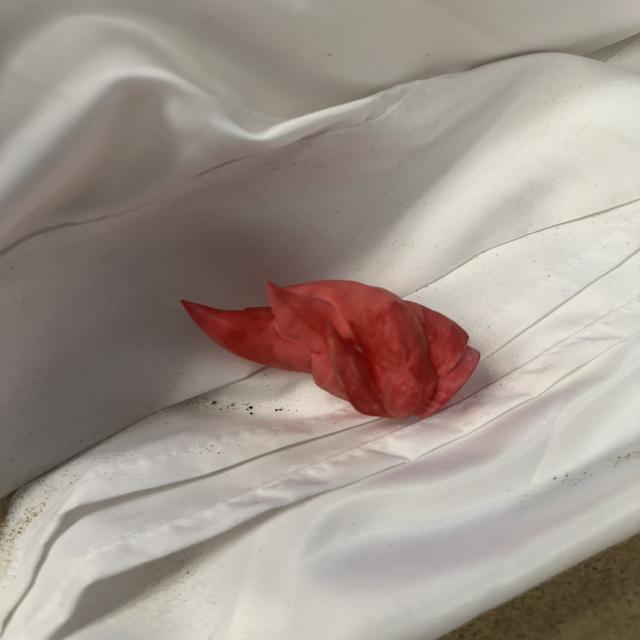fire: (179, 278, 481, 420)
